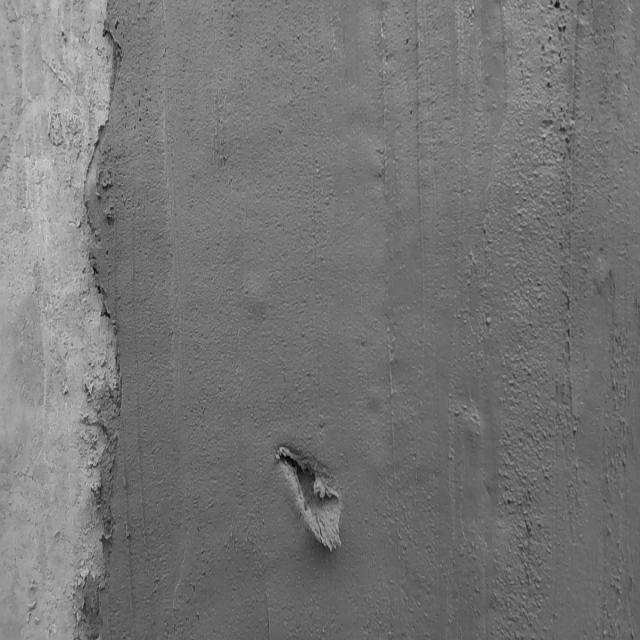trowels marks: (375, 8, 412, 637), (552, 4, 588, 464), (409, 8, 433, 436)
